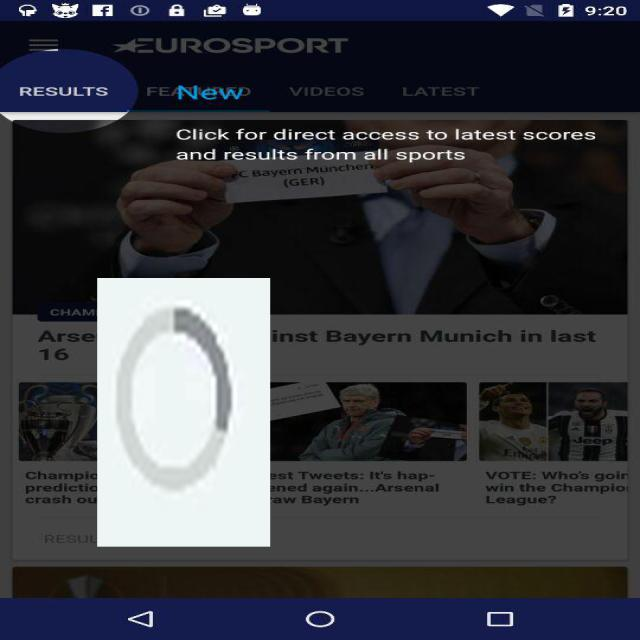misdirection: (97, 278, 270, 547)
